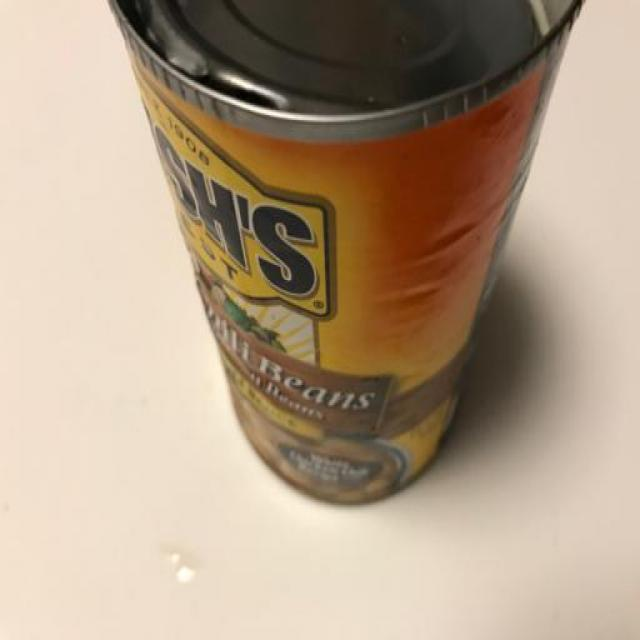metel: (112, 11, 567, 501)
